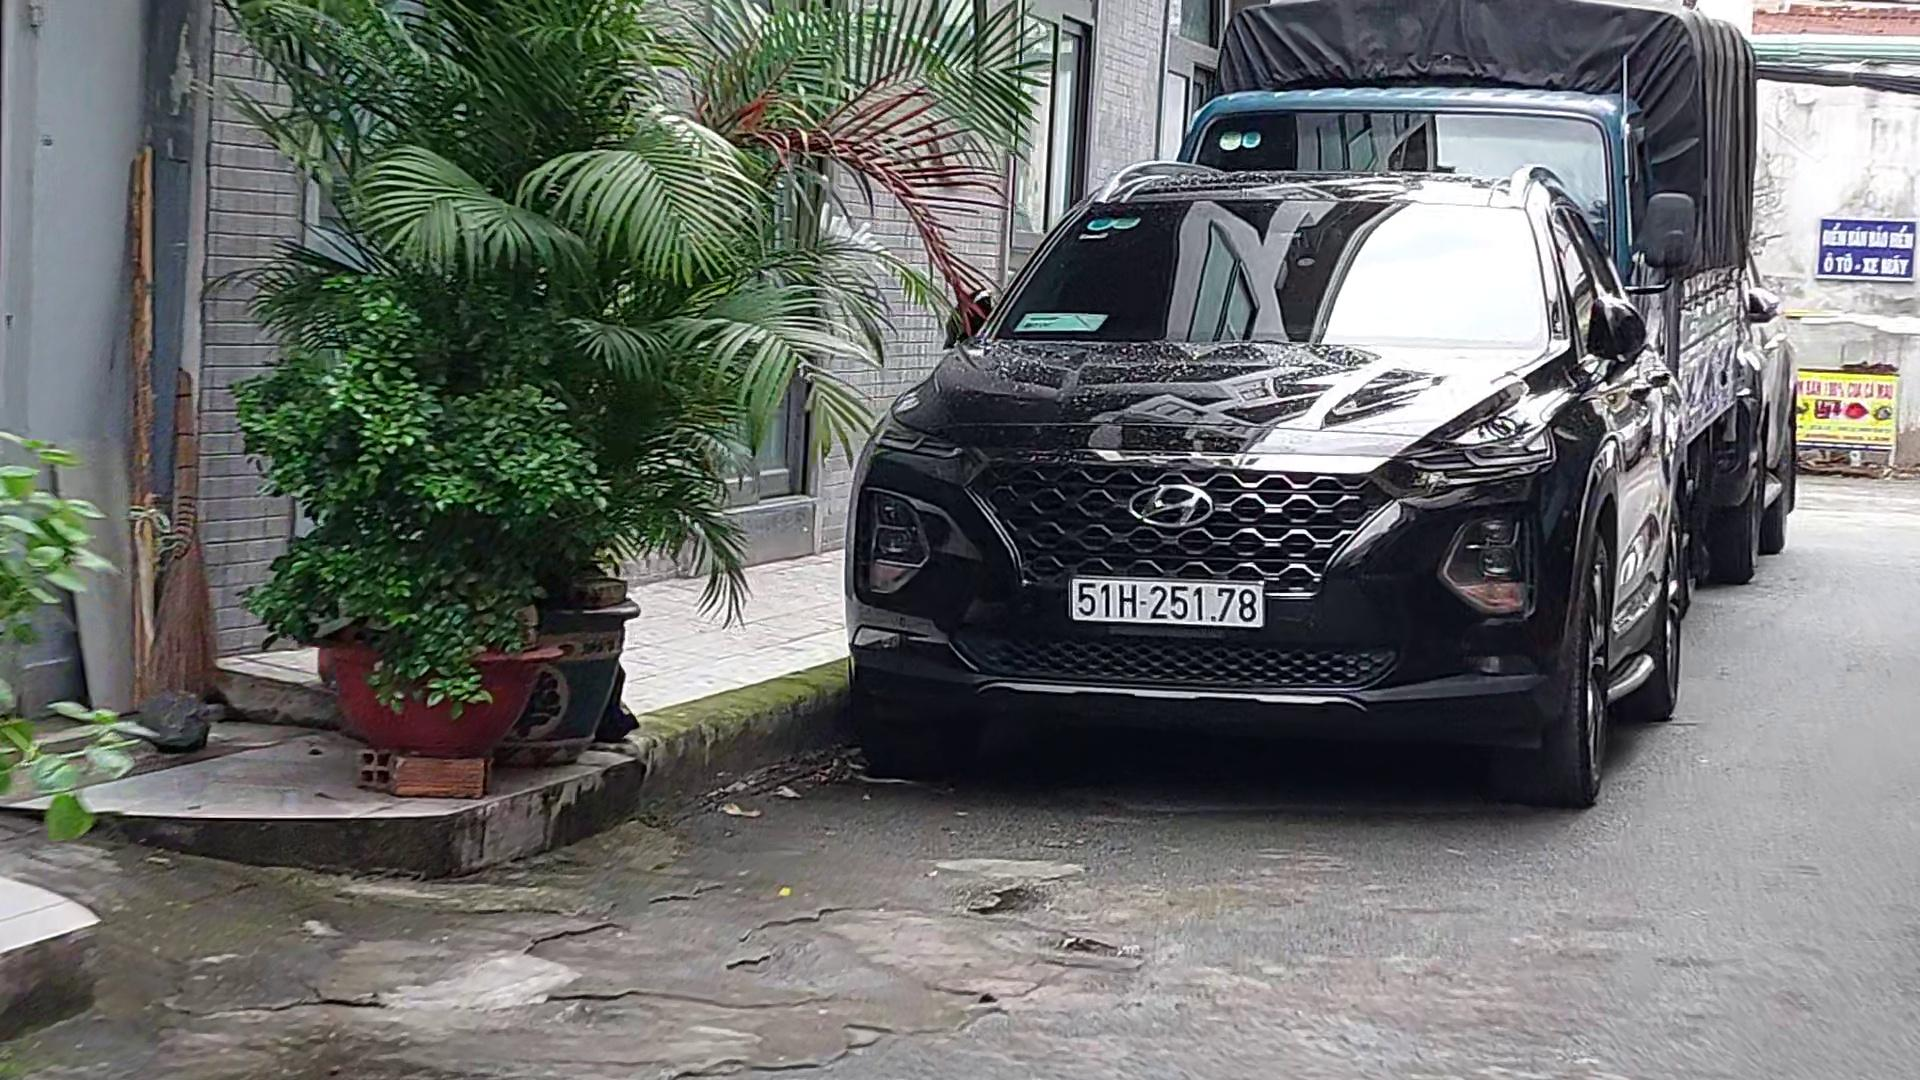numplate: (1067, 567, 1277, 640)
